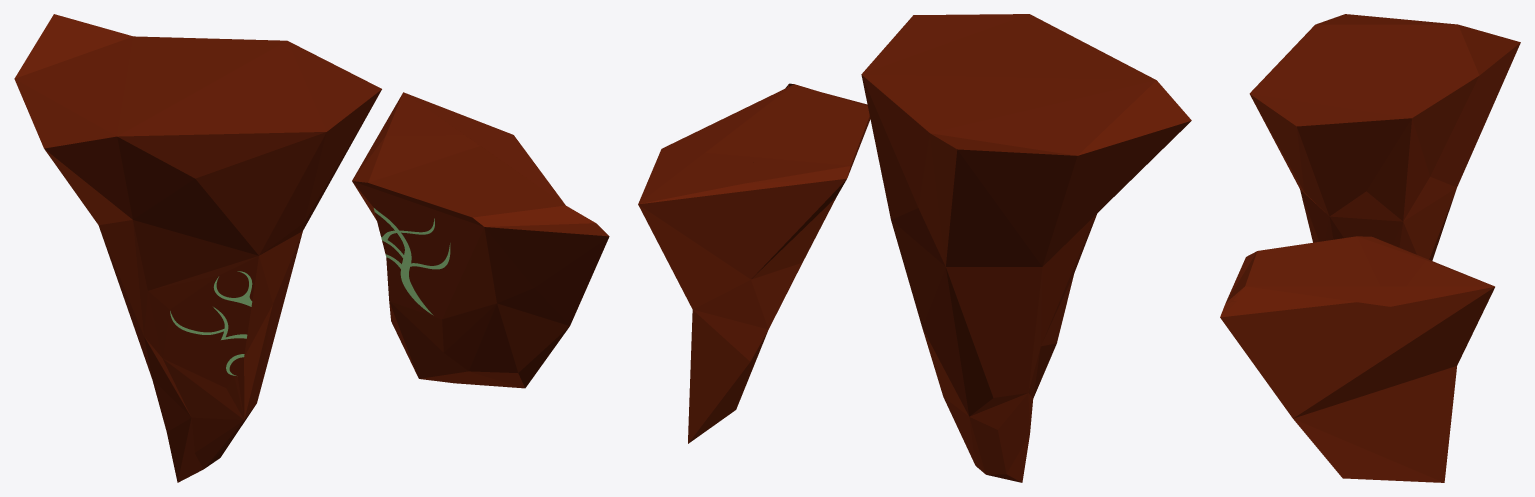
Rendered from PuzzleA.fbx.
The picture shows the model from 3 angles, left to right: view 1: azimuth 30°, elevation 25°; view 2: azimuth 150°, elevation 25°; view 3: azimuth 270°, elevation 25°; orthographic projection. The views are drawn at different scales.
Parts seen in each view (by area): view 1: Mesh2, Mesh1; view 2: Mesh2, Mesh1; view 3: Mesh1, Mesh2.
Part boxes in pixels (left/top/right/bottom): Mesh2: left=14, top=14, right=381, bottom=482; Mesh1: left=352, top=92, right=609, bottom=388; Mesh2: left=861, top=14, right=1191, bottom=482; Mesh1: left=638, top=83, right=870, bottom=443; Mesh1: left=1220, top=236, right=1494, bottom=482; Mesh2: left=1249, top=14, right=1520, bottom=260.
Size of the model in its own units: 1955 by 1527 by 1299.
